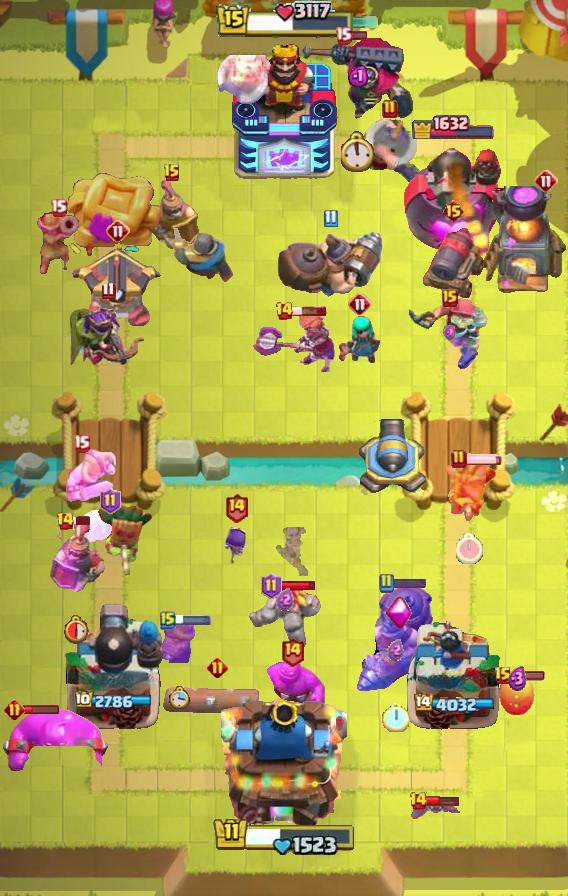axe: (215, 55, 271, 105)
bar: (465, 453, 503, 465), (291, 305, 327, 317), (23, 704, 60, 715), (280, 580, 317, 591), (426, 795, 459, 807), (391, 578, 427, 589), (174, 615, 212, 625), (509, 671, 545, 681), (72, 515, 92, 526), (349, 30, 368, 41)
bar-level: (280, 636, 305, 667), (224, 492, 249, 523), (348, 292, 372, 316), (106, 219, 130, 243), (534, 169, 558, 193), (442, 199, 465, 223), (261, 573, 282, 599), (100, 488, 121, 514), (4, 699, 25, 720), (207, 657, 228, 678), (409, 791, 428, 811), (56, 511, 75, 531), (275, 301, 294, 321), (494, 666, 512, 686), (163, 163, 181, 183), (73, 434, 90, 453), (50, 198, 67, 217), (335, 26, 352, 45), (160, 610, 176, 630), (378, 573, 394, 593), (451, 449, 467, 469), (382, 99, 398, 119), (442, 289, 458, 307), (101, 281, 116, 300), (323, 209, 338, 228)
bat: (407, 798, 461, 820)
cannoneer-tower: (64, 601, 164, 731), (403, 138, 504, 256)
clock: (341, 131, 376, 172), (456, 533, 483, 564), (382, 702, 409, 732), (64, 614, 91, 644), (169, 686, 190, 709)
dart-goblin: (94, 499, 154, 577), (440, 460, 498, 522)
dirt: (272, 527, 316, 576)
elite-barbarian: (64, 446, 118, 502), (161, 617, 197, 664)
elixir: (508, 666, 527, 692), (348, 64, 368, 87), (276, 588, 294, 611), (387, 639, 404, 661), (444, 324, 457, 341)
elixir-golem-mid: (258, 659, 326, 715)
evolution-symbol: (386, 596, 412, 630)
executioner: (357, 119, 423, 185)
golemite: (247, 585, 323, 647)
ice-spirit-evolution: (70, 510, 120, 548)
king-tower: (221, 690, 347, 826), (230, 41, 338, 181)
king-tower-bar: (212, 813, 356, 855), (215, 1, 354, 40)
knight: (170, 228, 234, 283)
musketeer: (37, 206, 79, 276)
phoenix-egg: (497, 673, 537, 717)
queen-tower: (404, 617, 502, 731)
rascal-girl: (337, 316, 383, 366)
royal-recruit: (47, 521, 108, 597), (145, 177, 199, 249)
skeleton-evolution: (221, 526, 251, 566)
the-log: (163, 683, 271, 719)
tower-bar: (411, 112, 496, 139), (412, 694, 494, 715), (75, 691, 154, 711)
valkyrie-evolution: (252, 308, 336, 375)
